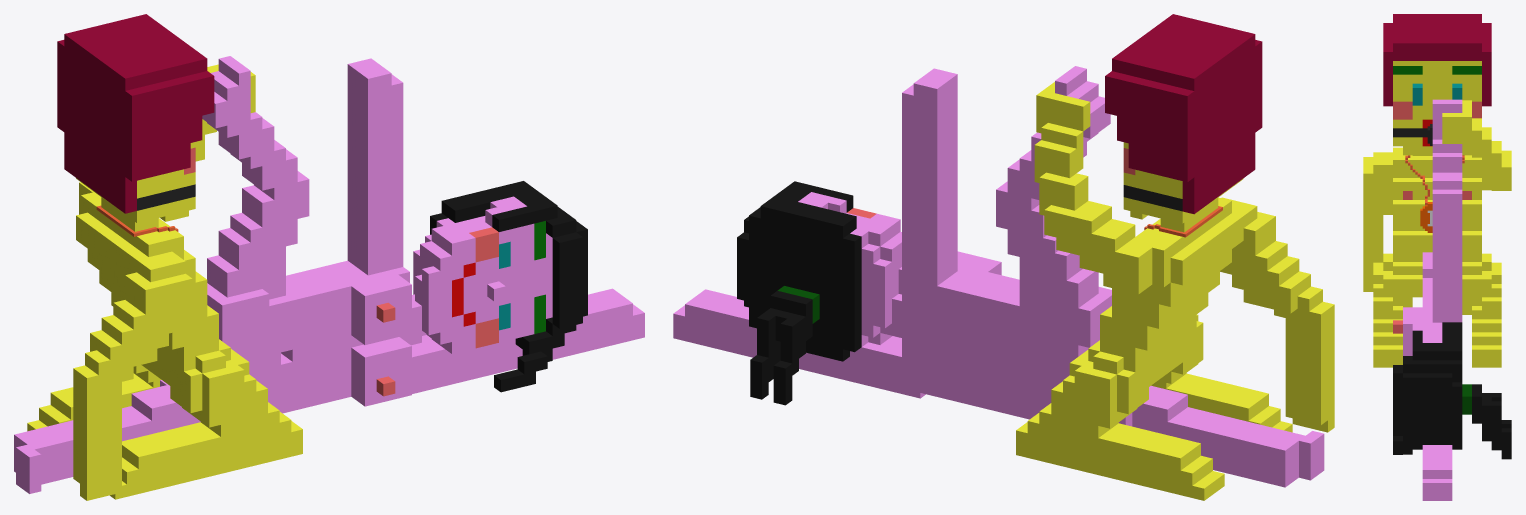
Rendered from kama50.glb.
The picture shows the model from 3 angles, left to right: view 1: azimuth 30°, elevation 25°; view 2: azimuth 150°, elevation 25°; view 3: azimuth 270°, elevation 25°; orthographic projection. The views are drawn at different scales.
Visible parts, largest first — view 1: Node; view 2: Node; view 3: Node.
Boxes of the visible parts, bbox=[...] form: Node: bbox=[14, 14, 644, 500]; Node: bbox=[673, 14, 1334, 500]; Node: bbox=[1363, 14, 1511, 500].
Bounding box in the file's own units: 21.2 × 13.2 × 6.
Materials: 1 (1 with a texture image).
